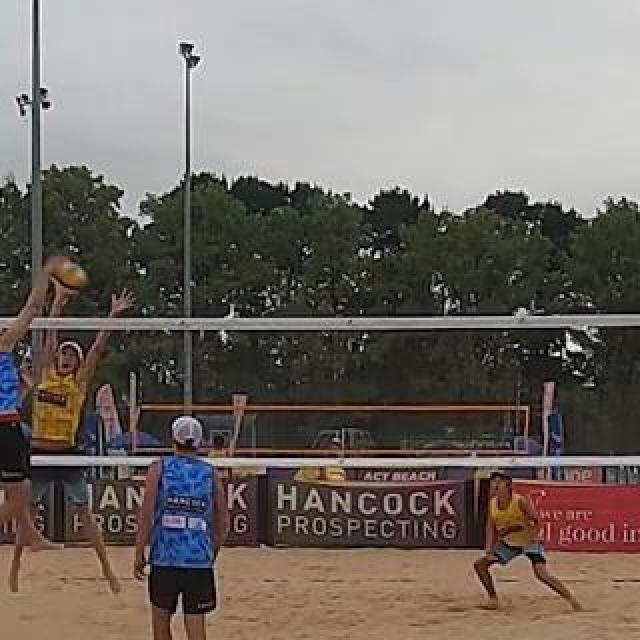volleyball: (50, 258, 86, 292)
